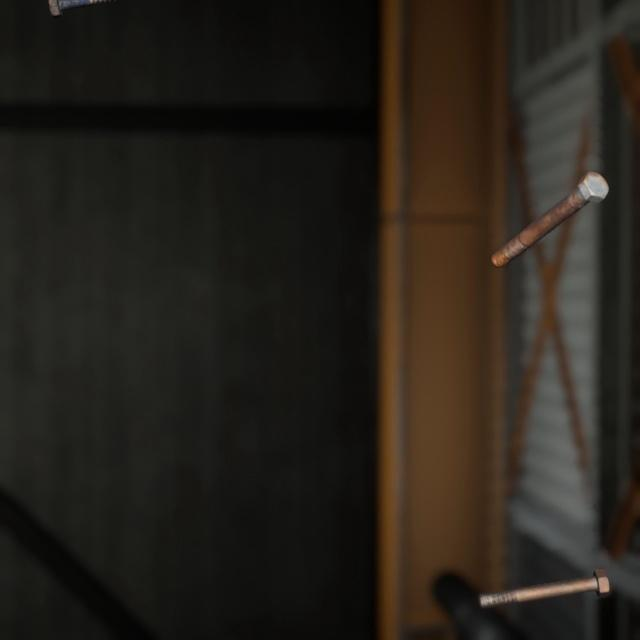bolt: (486, 151, 613, 257), (473, 540, 614, 589)
